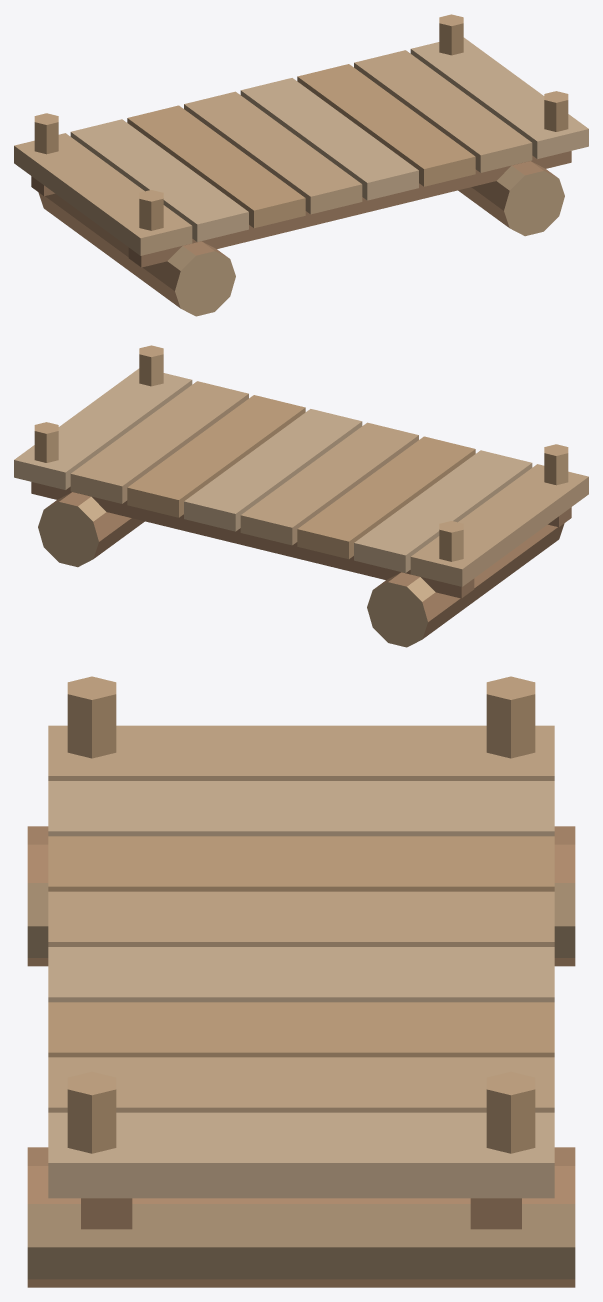
3 views of the same model, one above another, from view 1: azimuth 30°, elevation 25°; view 2: azimuth 150°, elevation 25°; view 3: azimuth 270°, elevation 25° (orthographic). The views are drawn at different scales.
Visible parts, largest first — view 1: world; view 2: world; view 3: world.
Part boxes in pixels (<box>): world: <box>14,14,588,316</box>; world: <box>14,345,588,647</box>; world: <box>27,676,575,1287</box>.
Size of the model in its own units: 4.25 by 1.05 by 2.25.
